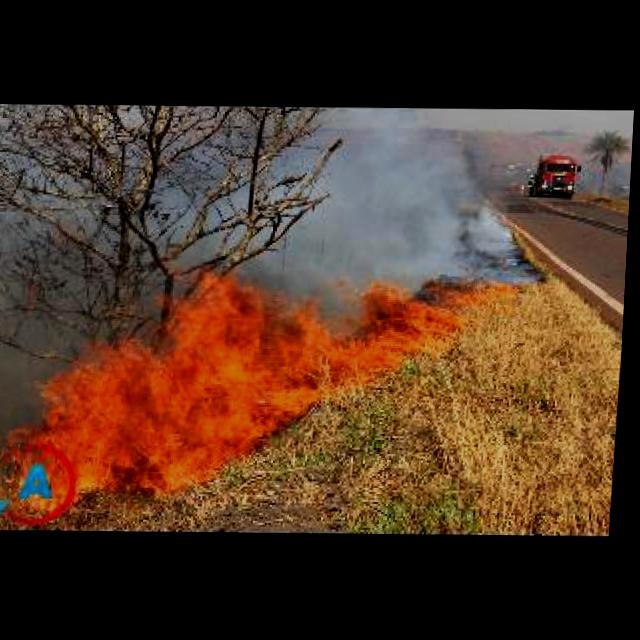Fire: (12, 268, 515, 514)
Smoke: (156, 99, 522, 281)
